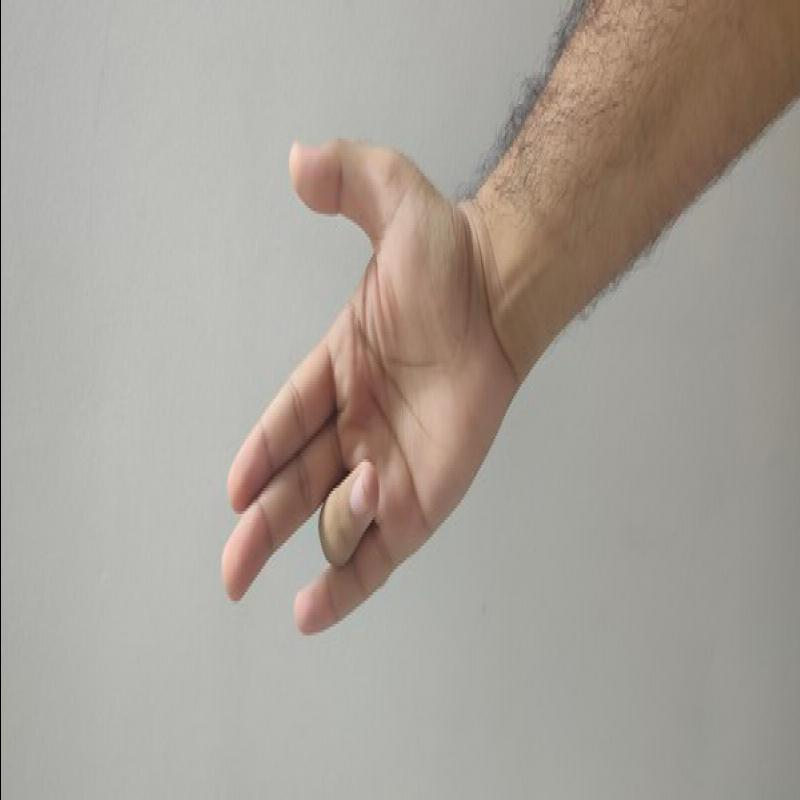Pathaaka: (198, 136, 512, 654)
